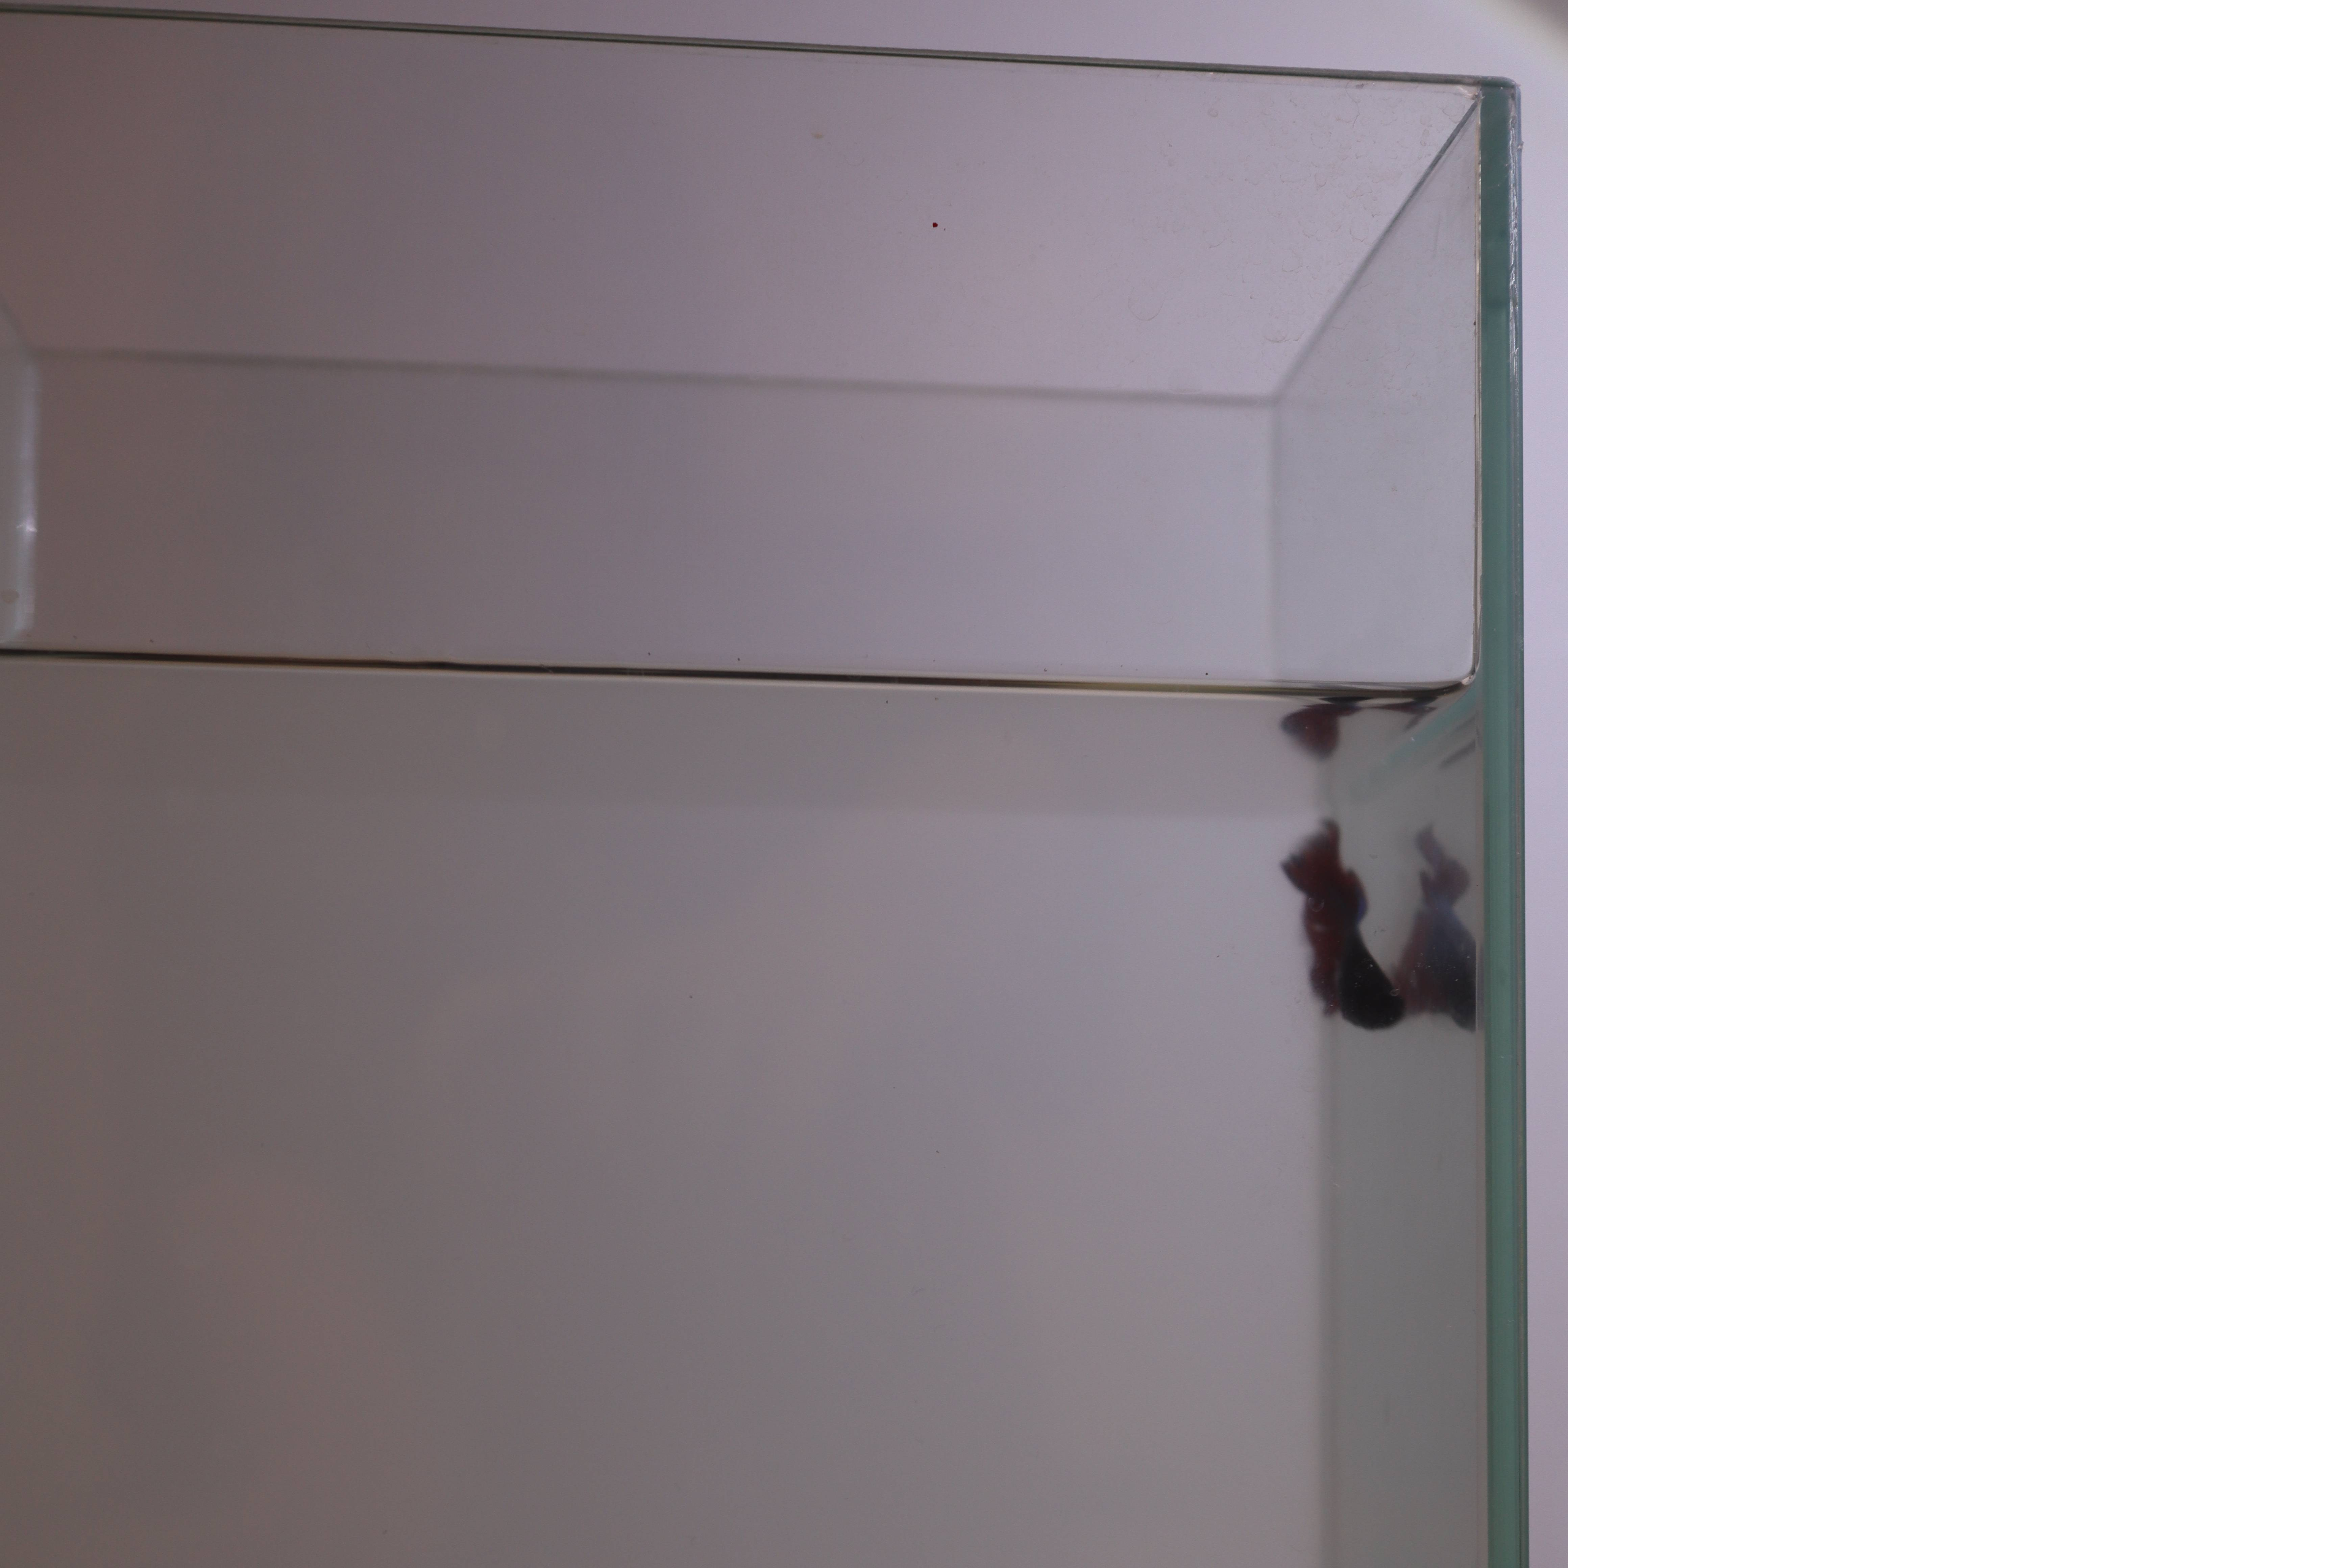fish: (1260, 810, 1412, 1038)
